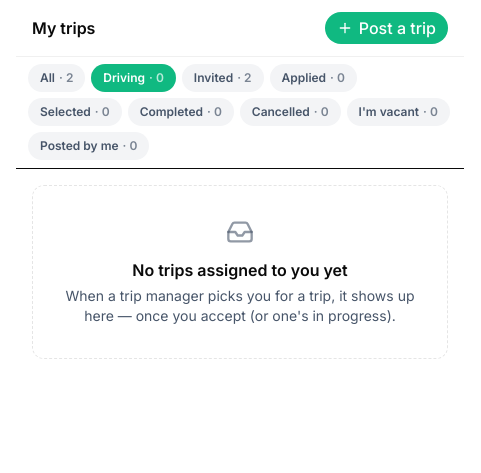
Test: DriverActivityPage › All chip sorts newest-posted first within a bucket (createdAt DESC)
Step 1. Click the button "All · 2" → (57, 78), box [28,64,85,92]
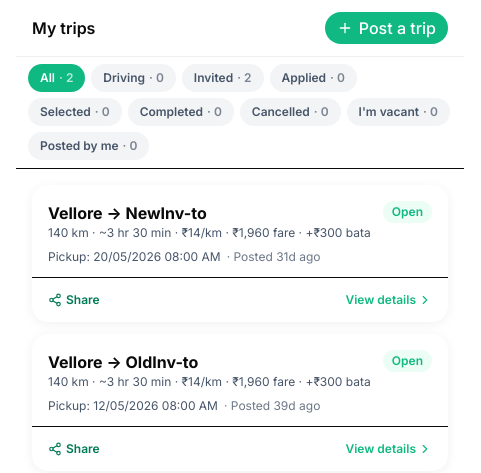
Result: the text "Vellore → NewInv-to" is shown at [48,201,207,225]
Result: the text "Vellore → OldInv-to" is shown at [48,350,198,374]
